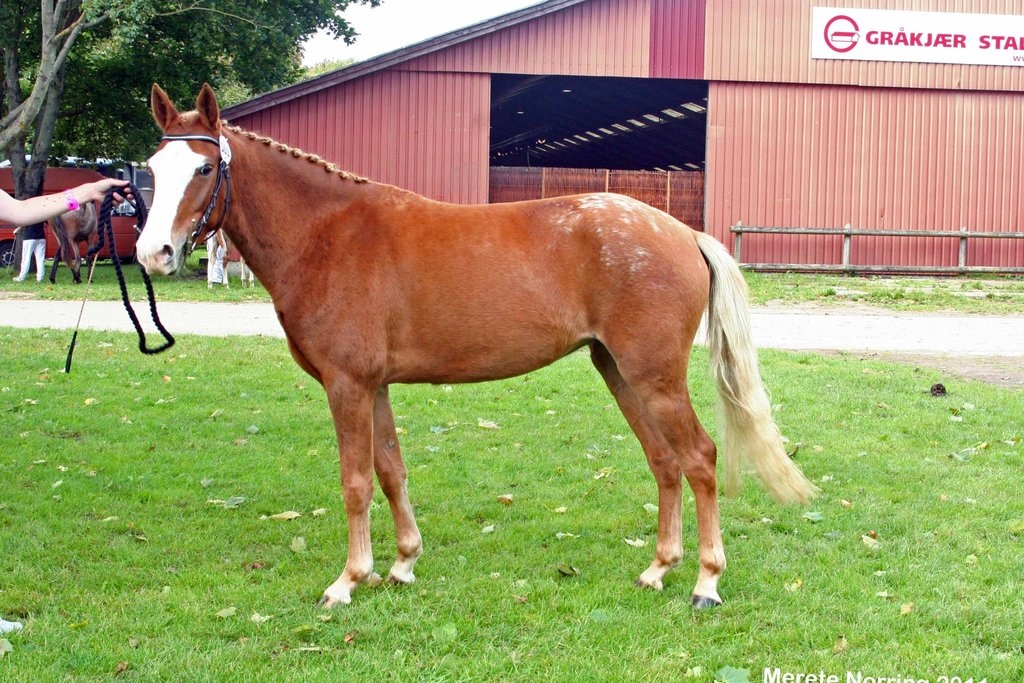horse: (131, 83, 824, 614), (48, 203, 98, 284)
